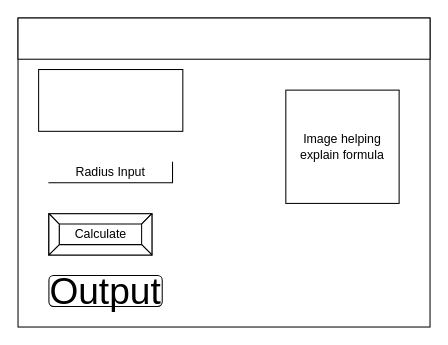
Image size: 448x345. Some labels were removed from this diagram. Each missing label, with the centre of its shape:
Formula: the point at 110,99
Header: the point at 223,38
